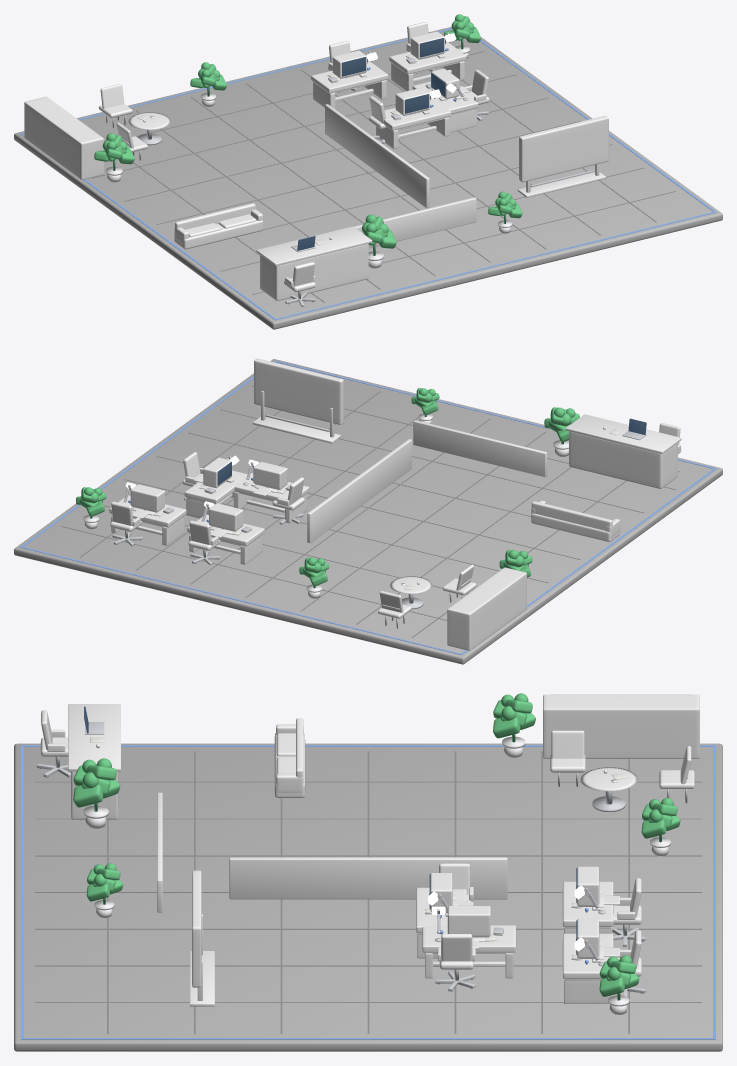
File: office.glb
3 renders of one model, top to bottom at view 1: azimuth 30°, elevation 25°; view 2: azimuth 150°, elevation 25°; view 3: azimuth 270°, elevation 25°, orthographic. The views are drawn at different scales.
Visible parts, largest first — view 1: static-floor, static-board, static-counter, static-floor-grid, static-cabinet, static-divider-a, static-sofa, colored-border, static-divider-b, static-work-desk.001, static-work-desk.002, static-work-desk.003 (+14 smaller); view 2: static-floor, static-counter, static-board, static-floor-grid, static-cabinet, static-divider-b, static-divider-a, colored-border, static-sofa, static-work-desk.003, static-work-desk.001, static-work-desk.002 (+17 smaller); view 3: static-floor, static-divider-a, static-floor-grid, static-cabinet, colored-border, static-counter, static-work-desk.002, static-sofa, static-board, static-plant.001, static-work-desk.004, static-plant.002 (+18 smaller).
Part boxes in pixels (<box>): static-floor: <box>14,27,722,329</box>; static-board: <box>517,115,608,197</box>; static-counter: <box>256,226,372,300</box>; static-floor-grid: <box>92,51,675,302</box>; static-cabinet: <box>24,96,103,179</box>; static-divider-a: <box>325,104,429,208</box>; static-sofa: <box>174,203,263,249</box>; colored-border: <box>20,28,716,320</box>; static-divider-b: <box>354,197,476,248</box>; static-work-desk.001: <box>311,61,388,108</box>; static-work-desk.002: <box>389,42,466,91</box>; static-work-desk.003: <box>376,99,451,148</box>; static-floor: <box>14,359,722,664</box>; static-counter: <box>565,414,681,488</box>; static-board: <box>252,358,343,443</box>; static-floor-grid: <box>61,386,675,637</box>; static-cabinet: <box>447,567,526,650</box>; static-divider-b: <box>413,420,547,477</box>; static-divider-a: <box>307,439,411,543</box>; colored-border: <box>20,360,716,655</box>; static-sofa: <box>531,500,620,542</box>; static-work-desk.003: <box>233,473,309,523</box>; static-work-desk.001: <box>187,514,264,564</box>; static-work-desk.002: <box>109,495,186,545</box>; static-floor: <box>14,743,722,1051</box>; static-divider-a: <box>229,857,507,899</box>; static-floor-grid: <box>35,751,701,1033</box>; static-cabinet: <box>543,694,699,758</box>; colored-border: <box>21,745,715,1039</box>; static-counter: <box>68,704,120,819</box>; static-work-desk.002: <box>562,933,613,1003</box>; static-sofa: <box>274,718,305,797</box>; static-board: <box>190,870,214,1006</box>; static-plant.001: <box>73,758,120,828</box>; static-work-desk.004: <box>422,925,516,978</box>; static-plant.002: <box>493,693,535,757</box>.
Size of what is drawn, in the model's own units: 10.2 by 1.46 by 10.2.
